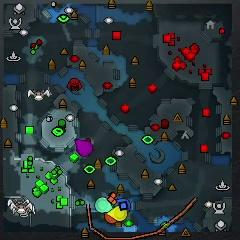p1: (113, 198, 132, 211)
p2: (95, 198, 112, 212)
p3: (75, 137, 94, 157)
p4: (107, 207, 128, 221)
p5: (104, 214, 119, 226)
